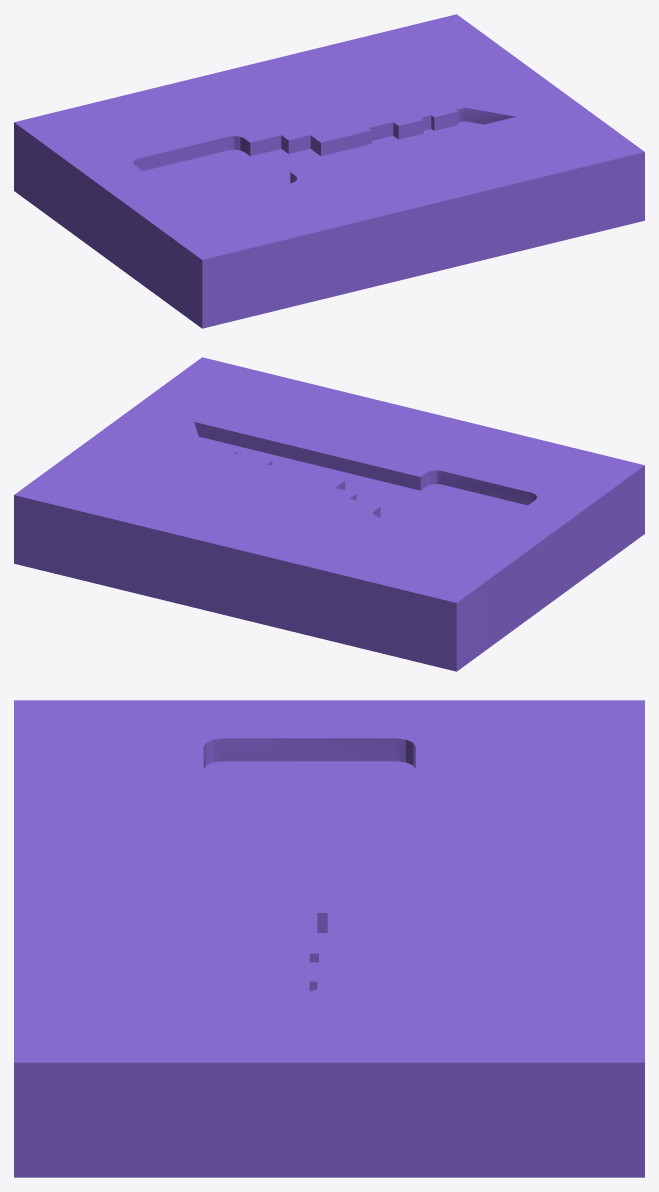
Rendered from WholeKeyMold.fbx.
The picture shows the model from 3 angles, top to bottom: view 1: azimuth 30°, elevation 25°; view 2: azimuth 150°, elevation 25°; view 3: azimuth 270°, elevation 25°; orthographic projection. The views are drawn at different scales.
Visible parts, largest first — view 1: WholeKeyMold; view 2: WholeKeyMold; view 3: WholeKeyMold.
Boxes of the visible parts, x1,y1,x2,y2 form: WholeKeyMold: [14, 14, 644, 328]; WholeKeyMold: [14, 357, 644, 671]; WholeKeyMold: [14, 700, 644, 1177].
Bounding box in the file's own units: 0.2721 × 0.0403 × 0.2004.
